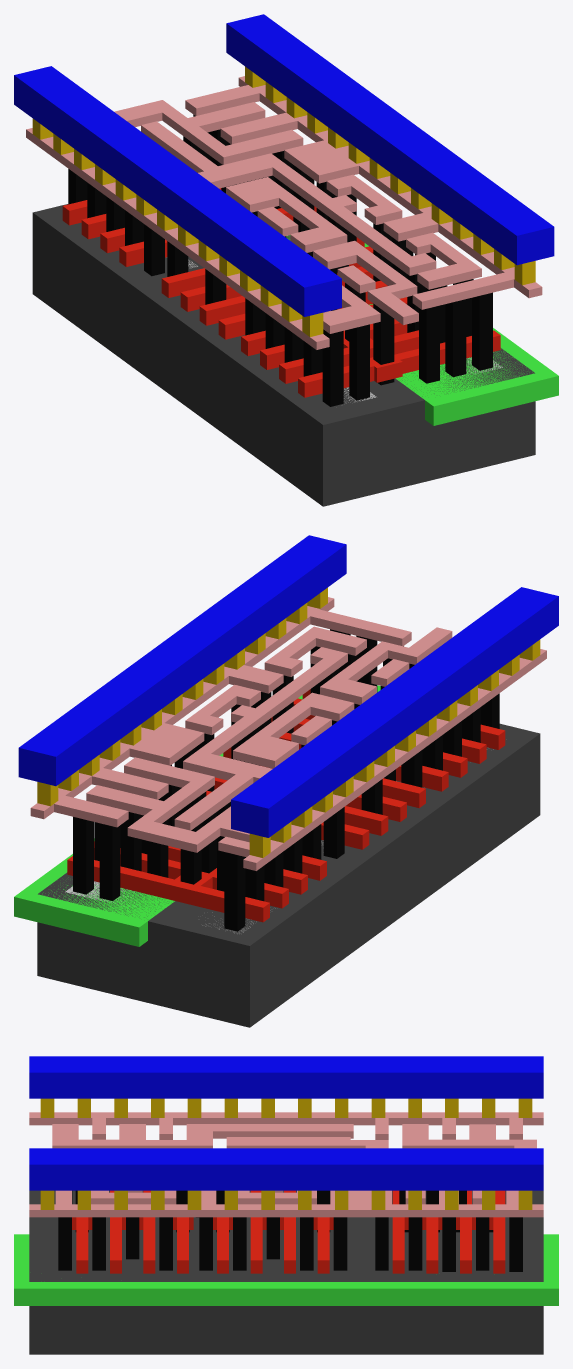
File: sky130_fd_sc_hd__o22a_4.obj
3 renders of one model, top to bottom at view 1: azimuth 30°, elevation 25°; view 2: azimuth 150°, elevation 25°; view 3: azimuth 270°, elevation 25°, orthographic. The views are drawn at different scales.
Parts seen in each view (by area): view 1: subs, metal1, li, licon, poly, mcon, nwell; view 2: subs, metal1, li, licon, poly, mcon, nwell; view 3: metal1, subs, li, nwell, licon, poly, mcon.
Boxes of the visible parts, x1,y1,x2,y2 form: subs: (32,204,535,506); metal1: (14,14,554,316); li: (26,76,542,349); licon: (68,114,492,406); poly: (62,188,500,397); mcon: (32,66,535,336); nwell: (286,235,558,425); subs: (37,723,540,1027); metal1: (18,535,558,837); li: (30,597,546,870); licon: (73,629,499,931); poly: (67,689,505,922); mcon: (37,587,540,857); nwell: (14,685,380,946); metal1: (29,1056,543,1190); subs: (29,1190,543,1354); li: (29,1112,543,1217); nwell: (14,1234,558,1305); licon: (58,1190,522,1271); poly: (72,1190,505,1273); mcon: (40,1098,532,1209).
Size of the model in its own units: 3.2 by 2.74 by 6.82.
